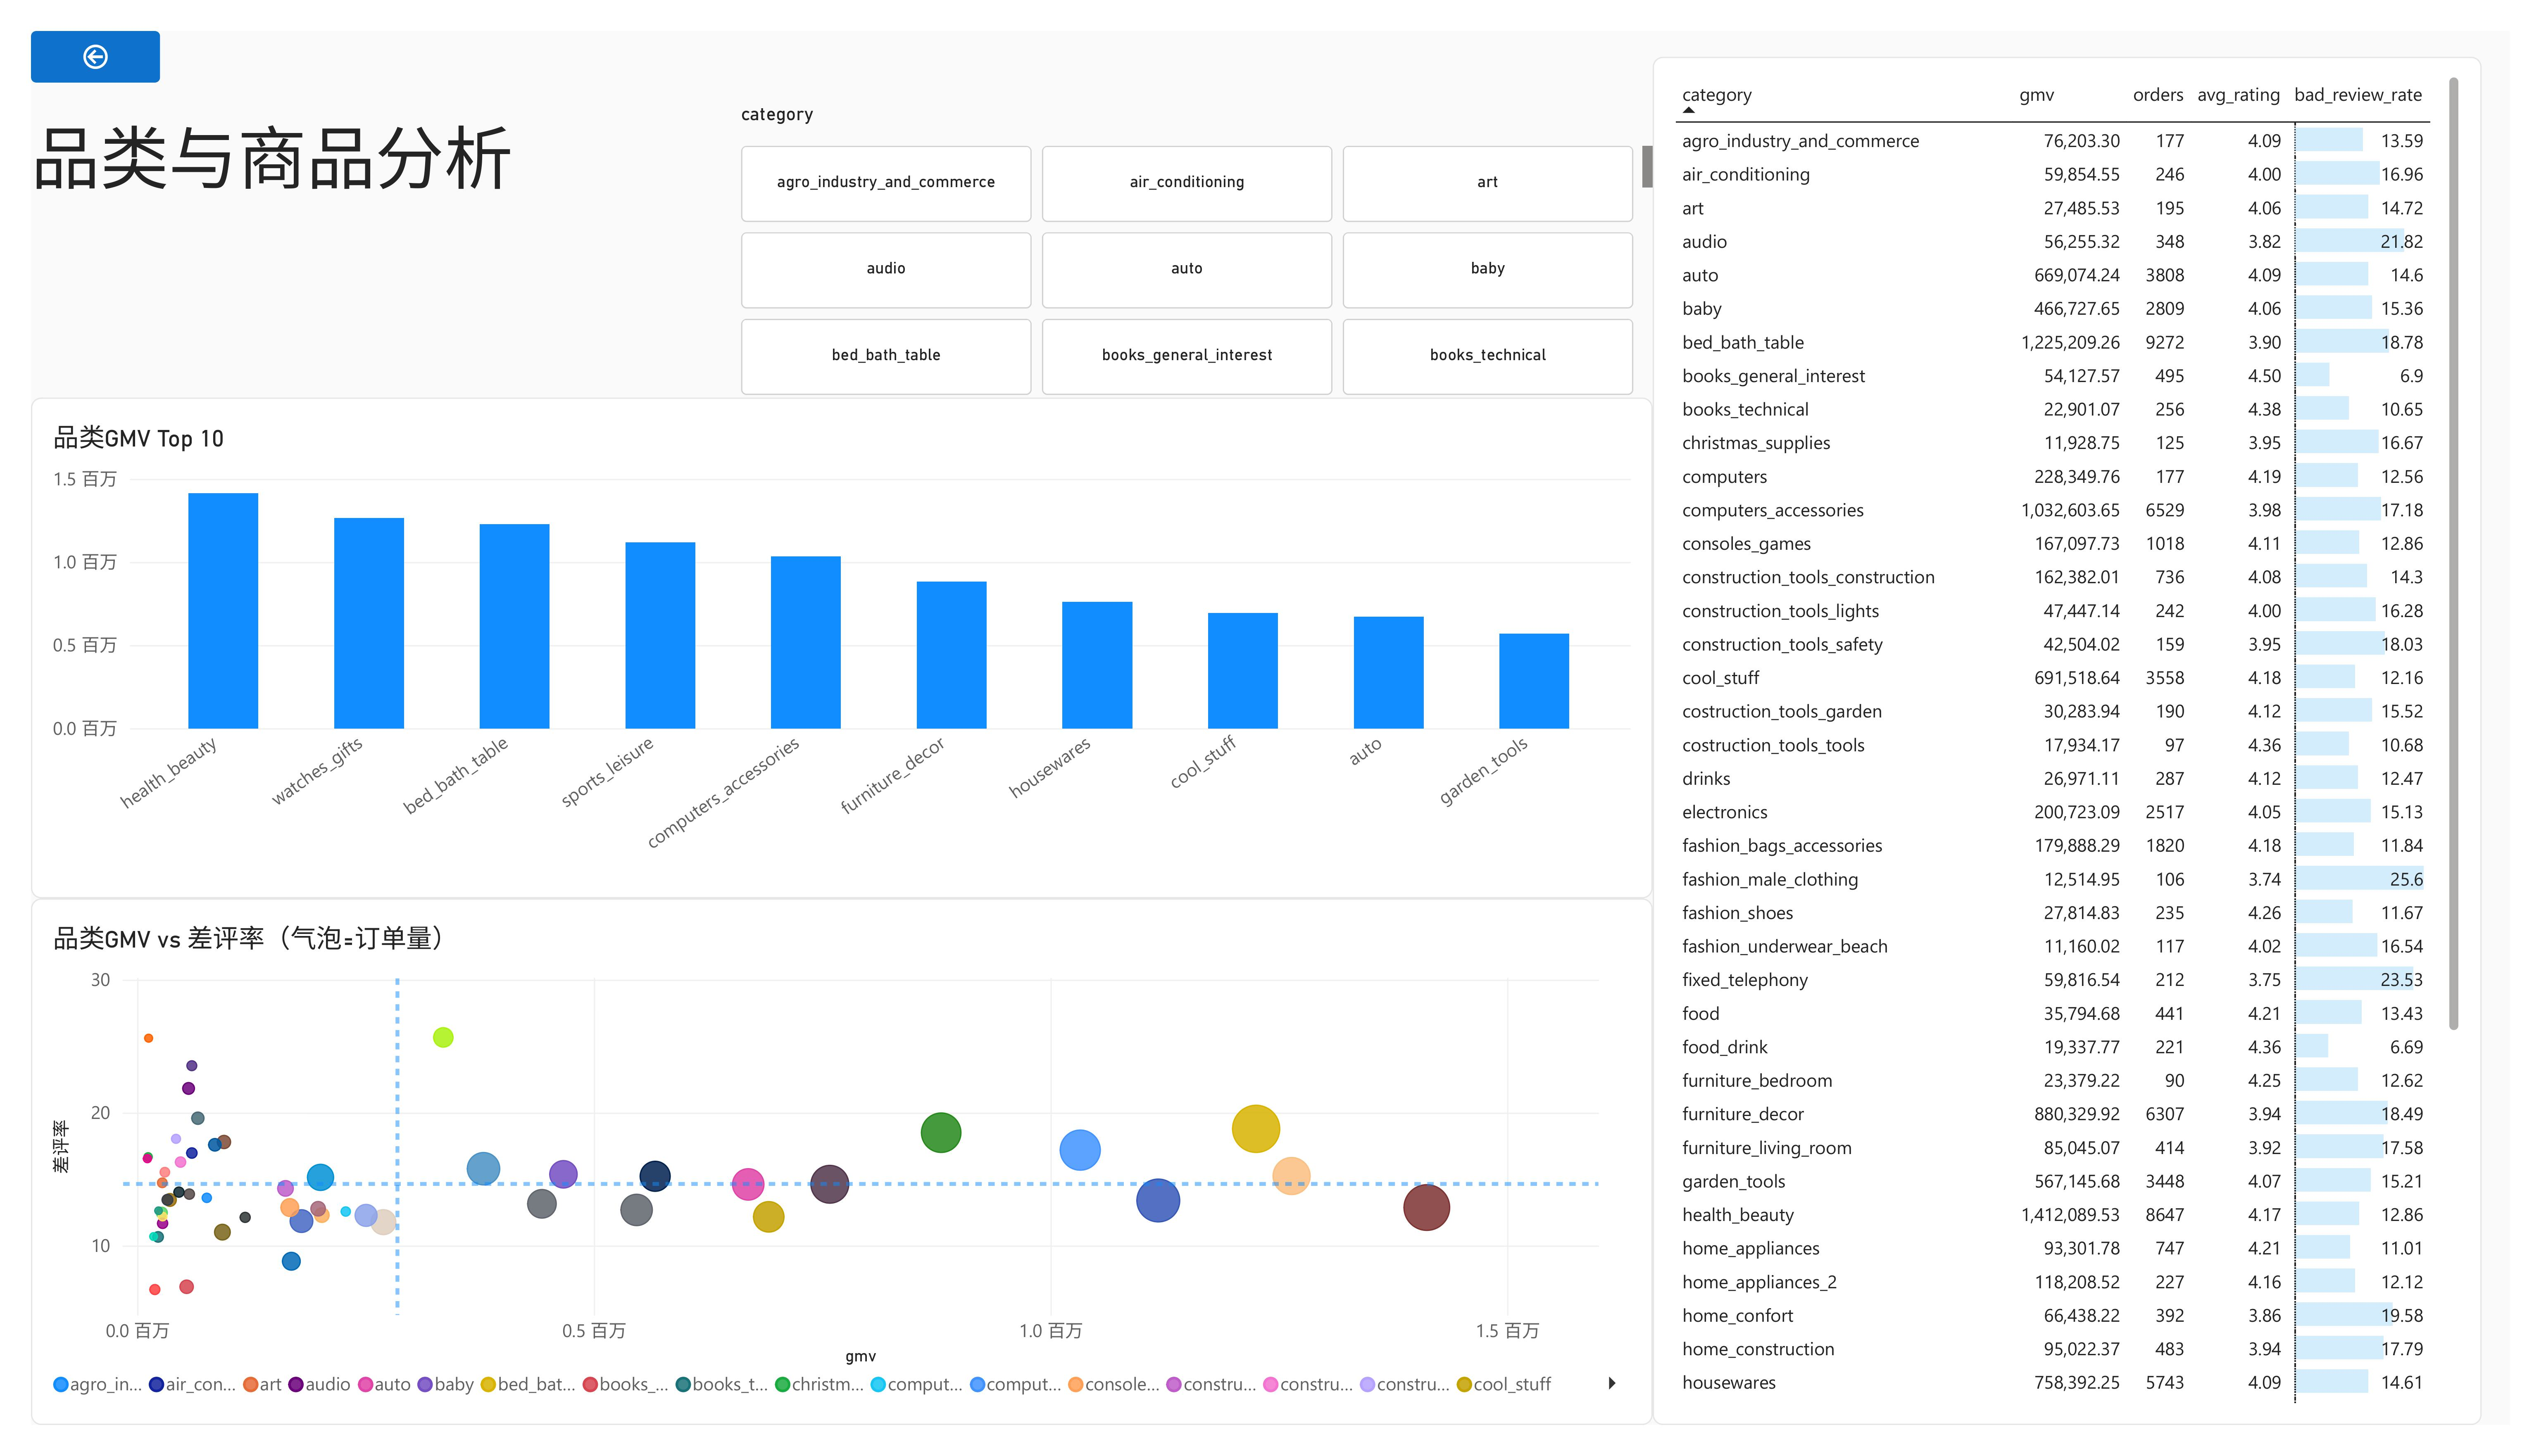

What the dashboard file says about the page in this screenshot:
{"tool":"powerbi","page":{"name":"品类与商品","canvas":[1920,1080],"ordinal":3},"visuals":[{"type":"clusteredColumnChart","title":"品类GMV Top 10","fields":{"Category":["category_gmv.category"],"Y":["Sum(category_gmv.detail_gmv)"]},"box":[0,284,1256,388],"z":0},{"type":"scatterChart","title":"品类GMV vs 差评率（气泡=订单量）","fields":{"Series":["category_bad_review.category"],"Size":["Sum(category_bad_review.orders)"],"X":["category_bad_review.gmv"],"Y":["category_bad_review.bad_review_rate"]},"box":[0,672,1256,408],"z":1000},{"type":"actionButton","box":[0,0,100,40],"z":2000},{"type":"tableEx","fields":{"Values":["category_bad_review.category","category_bad_review.gmv","category_bad_review.orders","category_bad_review.avg_rating","category_bad_review.bad_review_rate"]},"box":[1256,20,642,1060],"z":3000},{"type":"advancedSlicerVisual","fields":{"Values":["category_bad_review.category"]},"box":[550,56,706,228],"z":4000},{"type":"textbox","box":[0,56,550,228],"z":5000}]}

Visuals, with their boxes on the page's 1920x1080 design canvas (x1, y1, x2, y2). These are canvas units, not pixel positions in the 2541x1456 screenshot, which may show the page scaled, cropped or inside an application window:
"品类GMV Top 10" clusteredColumnChart: [0,284,1256,672]
"品类GMV vs 差评率（气泡=订单量）" scatterChart: [0,672,1256,1080]
actionButton: [0,0,100,40]
tableEx - category_bad_review.category x category_bad_review.gmv: [1256,20,1898,1080]
advancedSlicerVisual - category_bad_review.category: [550,56,1256,284]
textbox: [0,56,550,284]
